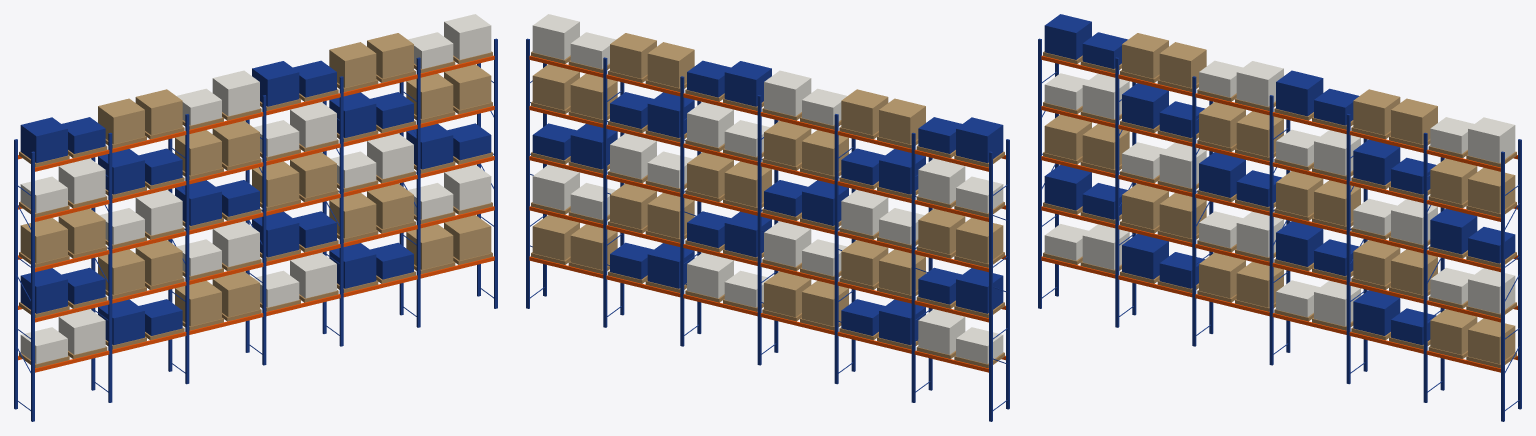
File: industrial.racking.bay_6.glb
The picture shows the model from 3 angles, left to right: view 1: azimuth 30°, elevation 25°; view 2: azimuth 150°, elevation 25°; view 3: azimuth 330°, elevation 25°; orthographic projection.
Visible parts, largest first — view 1: main__plastic_blue, main__plywood, main__fabric_white, main__softwood, main__hivis_orange; view 2: main__plastic_blue, main__plywood, main__fabric_white, main__softwood, main__hivis_orange; view 3: main__plastic_blue, main__plywood, main__fabric_white, main__softwood, main__hivis_orange.
Part boxes in pixels (x1,y1,x2,y2): main__plastic_blue: (14, 38, 497, 421); main__plywood: (20, 33, 491, 326); main__fabric_white: (20, 14, 491, 363); main__softwood: (19, 51, 492, 368); main__hivis_orange: (18, 55, 494, 372); main__plastic_blue: (526, 38, 1009, 421); main__plywood: (532, 33, 1003, 326); main__fabric_white: (532, 14, 1003, 363); main__softwood: (531, 51, 1004, 368); main__hivis_orange: (529, 55, 1005, 372); main__plastic_blue: (1038, 14, 1521, 421); main__plywood: (1044, 33, 1515, 363); main__fabric_white: (1044, 60, 1515, 326); main__softwood: (1043, 51, 1516, 368); main__hivis_orange: (1041, 55, 1517, 372).
Bounding box in the file's own units: 16.3 × 9.48 × 1.1.
